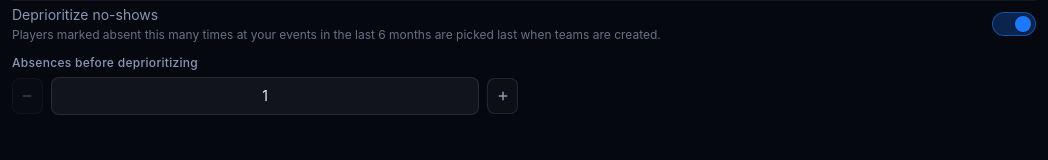
Test: NoShowDeprioritizationFields › does not let the limit go below 1
This screenshot has width=1048, height=160.
Click the button named "Increase Absences before deprioritizing" at (503, 96), box [488, 78, 518, 114]
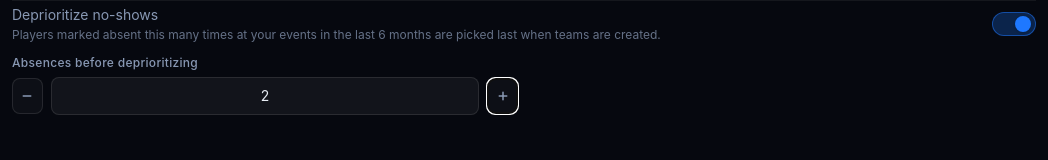
Result: the number field labelled "Absences before deprioritizing" holds "2" at [50, 77, 479, 115]
